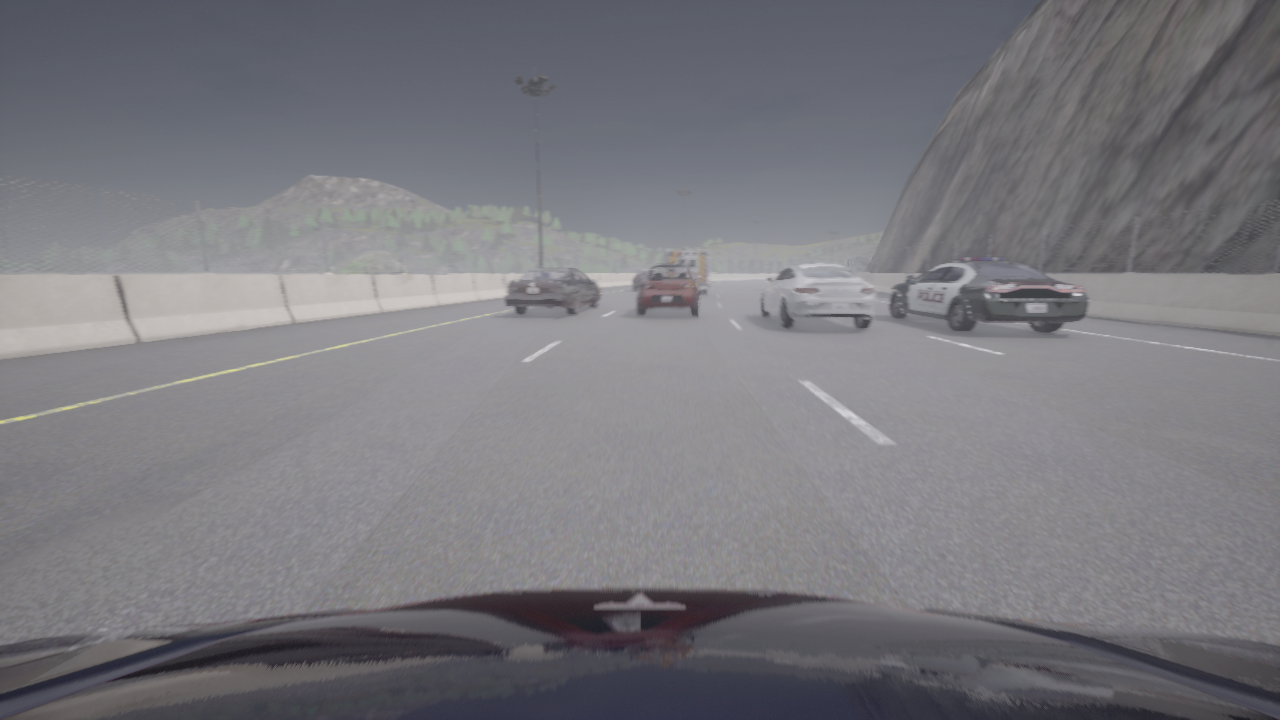cyclist: (0, 588, 1279, 719), (889, 258, 1090, 332), (760, 263, 875, 329), (504, 267, 600, 315), (637, 264, 700, 316), (666, 250, 714, 294), (633, 270, 648, 290)
